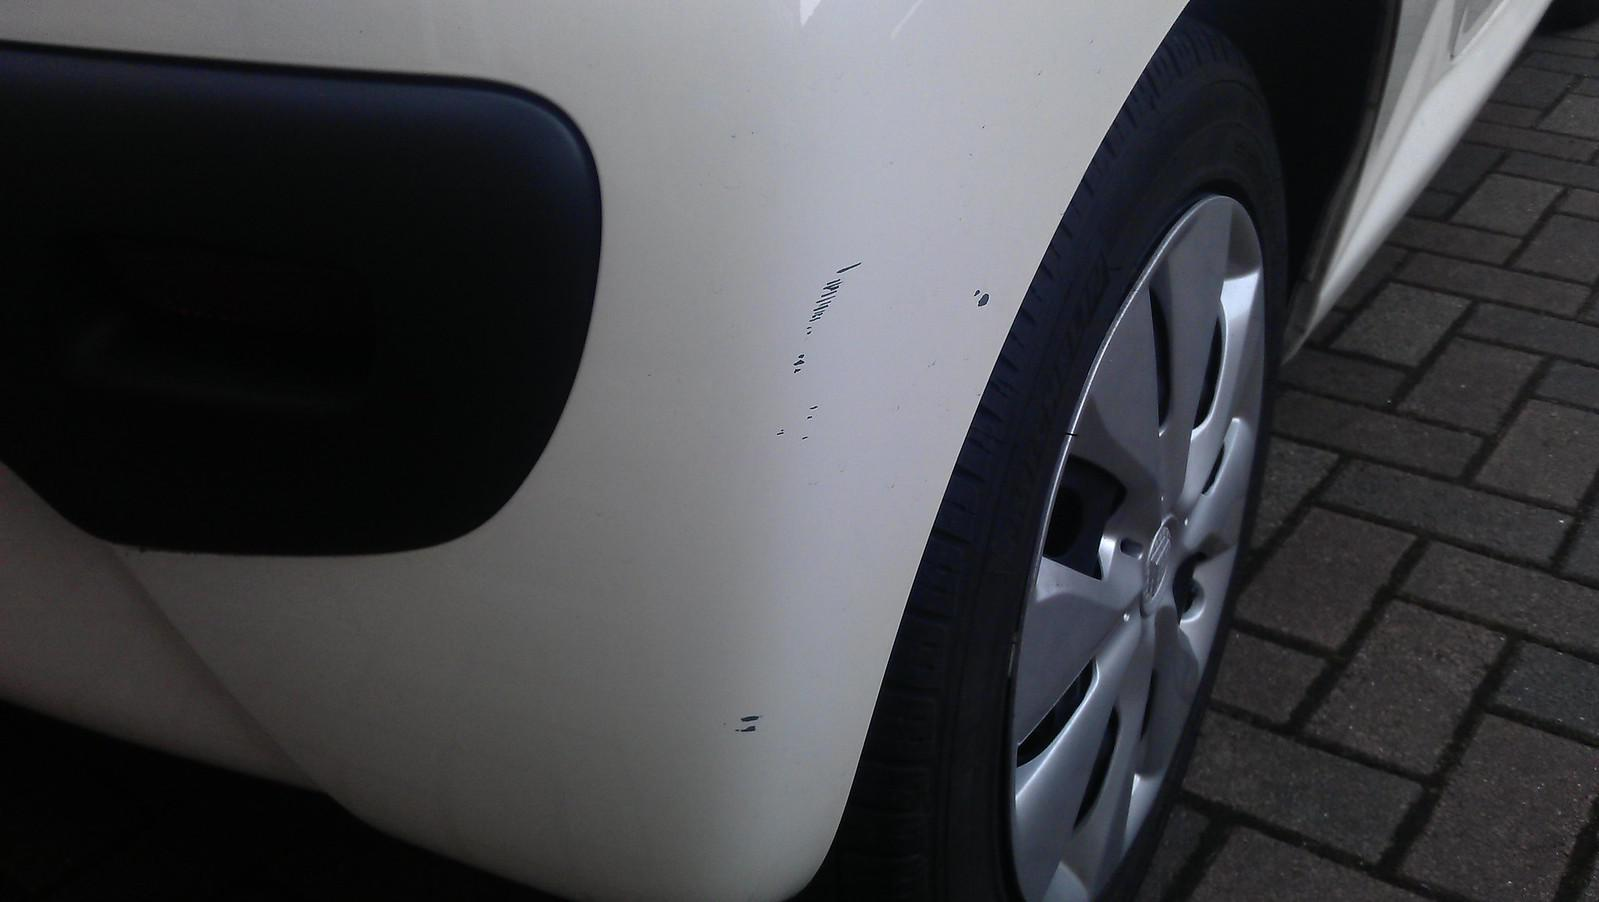front-bumper-dent: (661, 93, 1050, 768)
